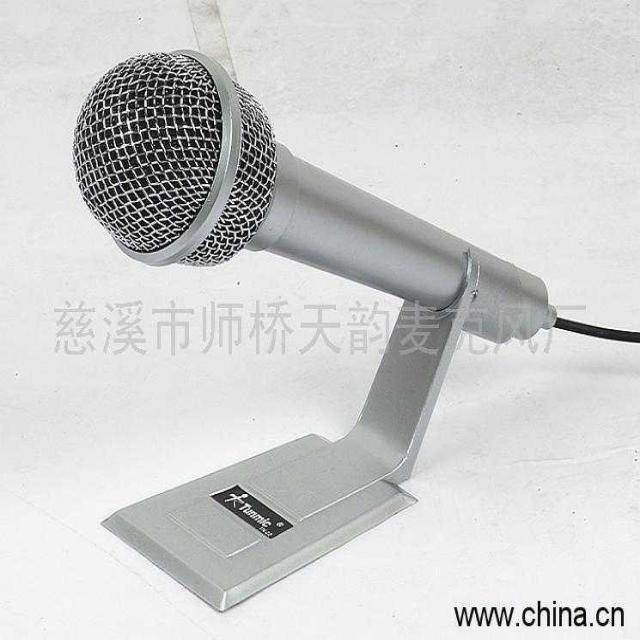microphone: (74, 55, 569, 338)
